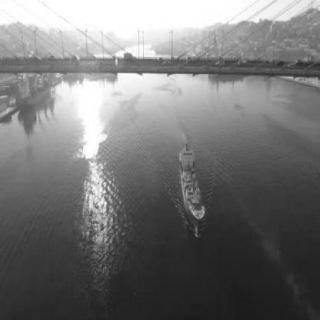other: (65, 76, 121, 166), (83, 174, 109, 254)
